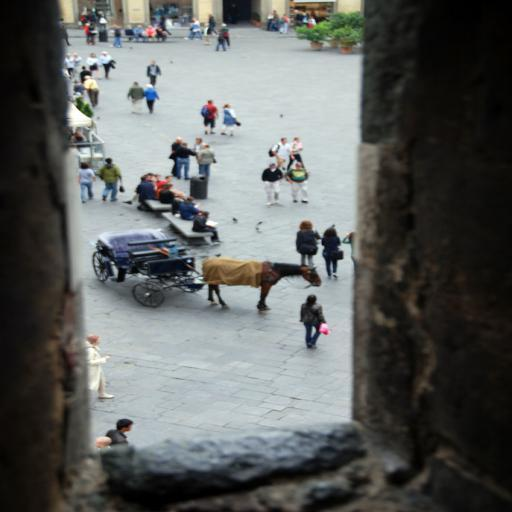horse: (204, 256, 324, 310)
